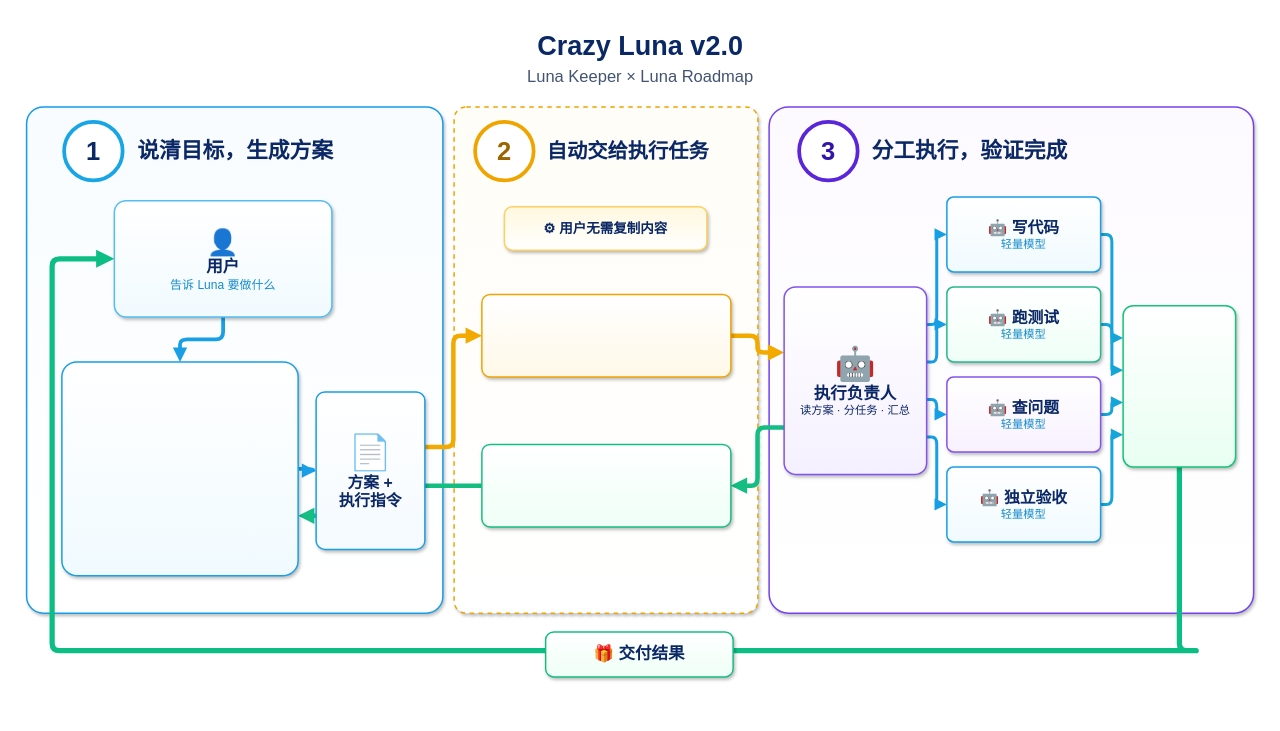
Image size: 1280x731. Some labels were removed from this diagram. The centre of each missing label's shape, as x and y in pixels:
✅ 全部完成 验证通过: the point at 1179,387
➤ 自动创建或继续执行任务 发送方案和执行指令: the point at 607,336
📋 收回结果和验证记录 没完成 → 继续执行: the point at 607,486
🧠 规划模型 🧩 Luna Keeper 全程跟进 🧩 Luna Roadmap 制定方案: the point at 180,469
